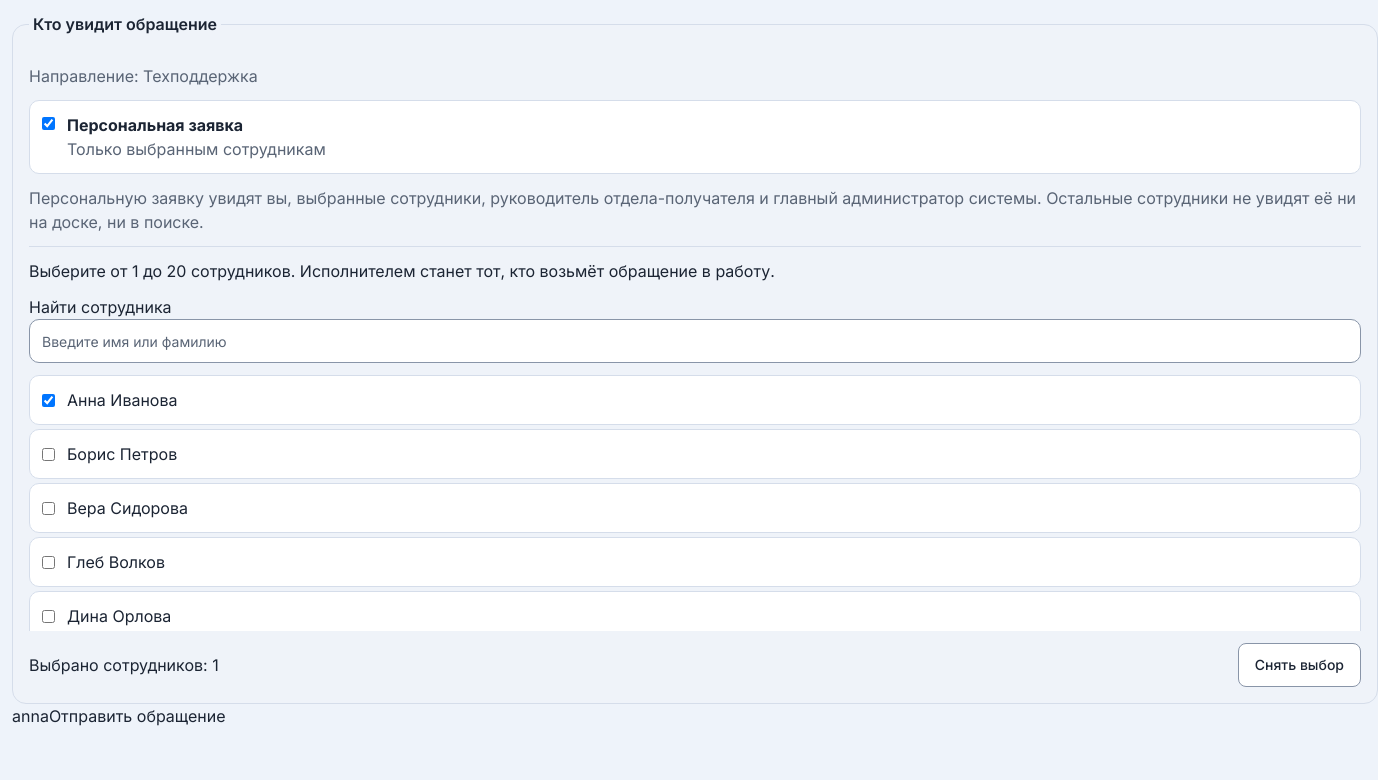
personal request recipient search › explains an empty search result and recovers all recipients when cleared
This screenshot has width=1378, height=780.
Step 1. Type "Нет такого сотрудника" into the search field labelled "Найти сотрудника" → coordinates (695, 341), box [29, 319, 1361, 363]
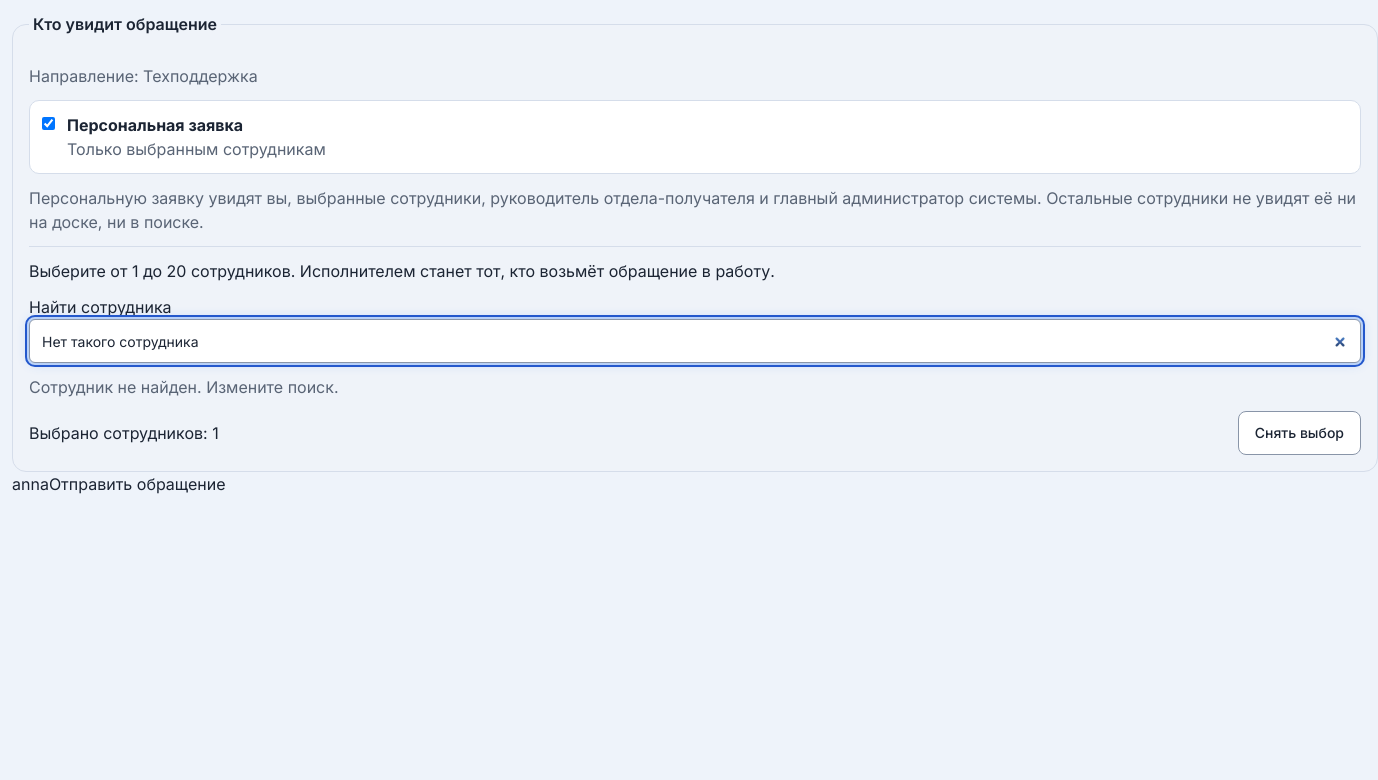
Expected: the text named "Выбранные сотрудники" reads "anna", [12, 474, 49, 494]
Expected: the text "Сотрудник не найден. Измените поиск." is shown, [29, 377, 338, 397]
Step 2. Clear the search field labelled "Найти сотрудника" → coordinates (695, 341), box [29, 319, 1361, 363]
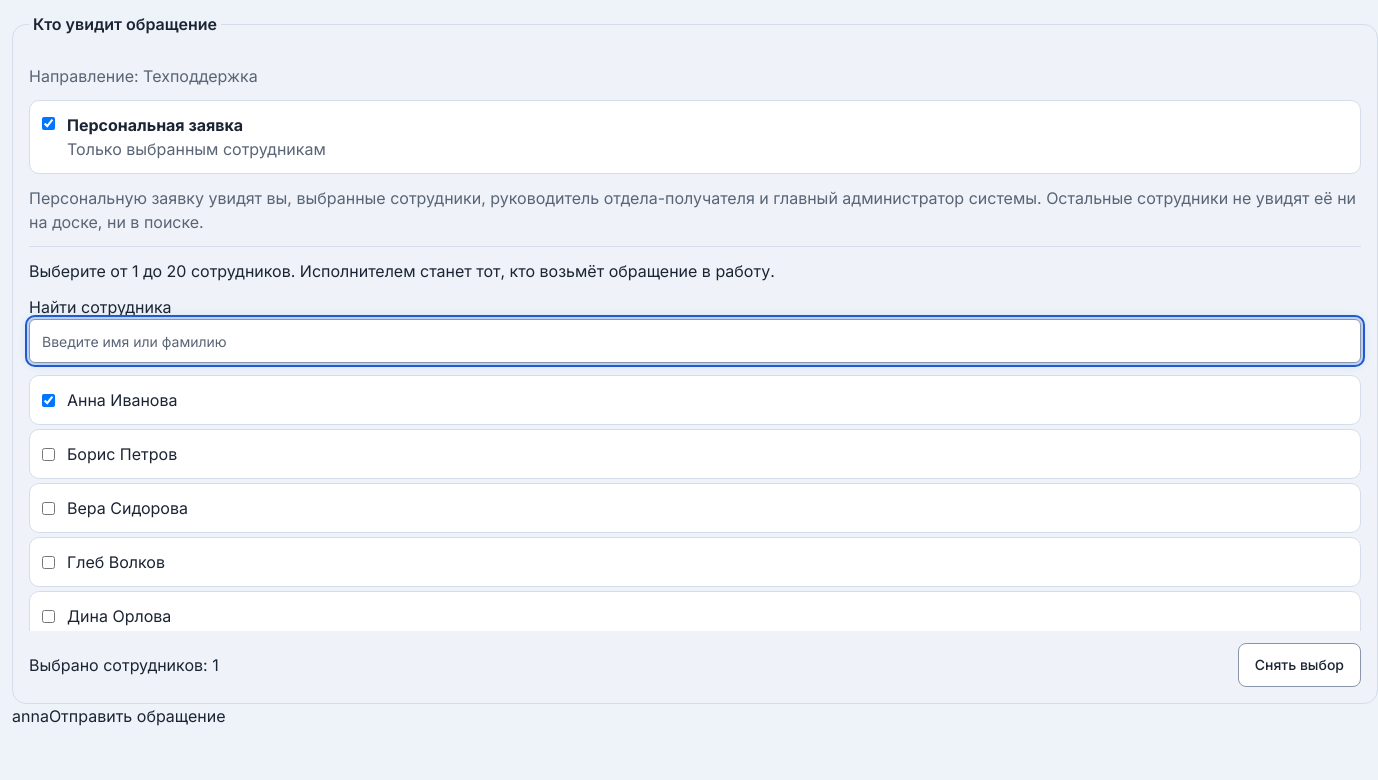
Expected: the number of checkboxes is 6, [42, 117, 55, 130]; [42, 394, 55, 406]; [42, 448, 55, 460]; [42, 502, 55, 514]; [42, 556, 55, 568]; [42, 610, 55, 622]
Expected: the text "Сотрудник не найден. Измените поиск." is gone
Expected: the checkbox labelled "Анна Иванова" is checked, [42, 394, 55, 406]
